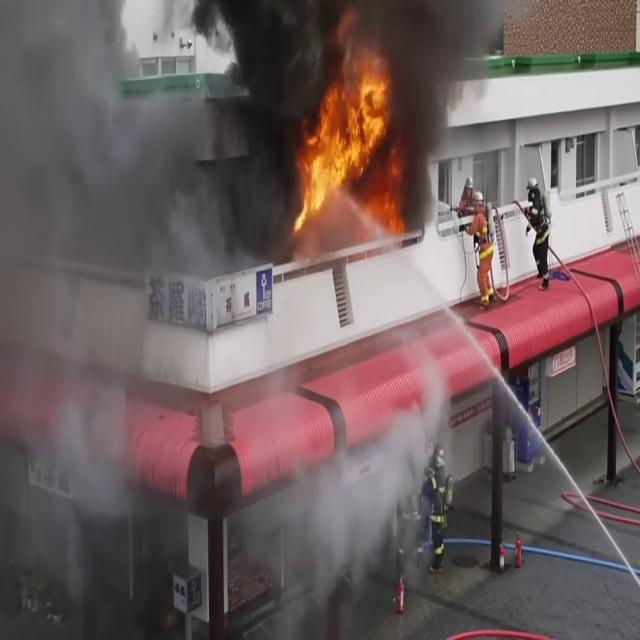Fire: (288, 36, 406, 227)
Smoke: (0, 0, 292, 352), (0, 0, 154, 568)
